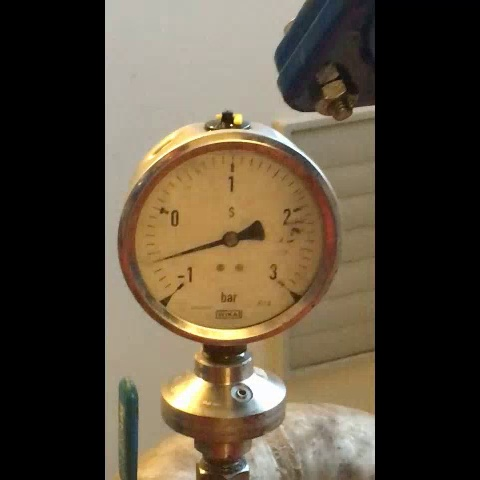Round_Meter: (131, 144, 335, 337)
